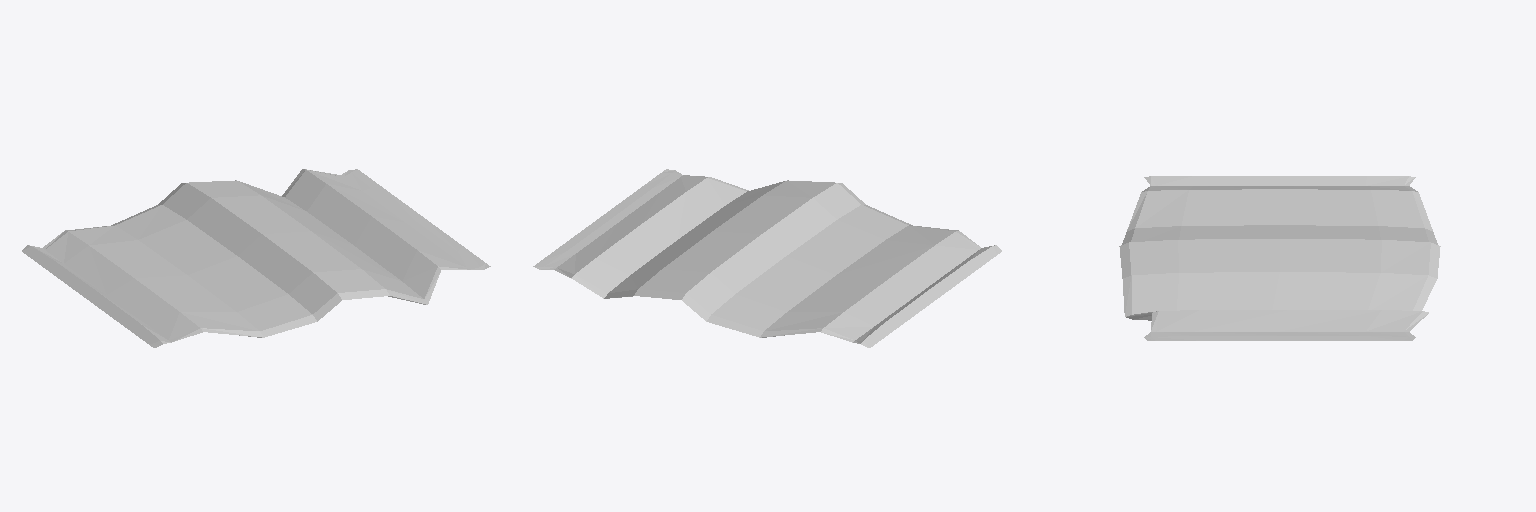
Rendered from Chips2.obj.
3 renders of one model, left to right at view 1: azimuth 30°, elevation 25°; view 2: azimuth 150°, elevation 25°; view 3: azimuth 270°, elevation 25°, orthographic.
Visible parts, largest first — view 1: Chips.001; view 2: Chips.001; view 3: Chips.001.
Boxes of the visible parts, x1=… form: Chips.001: x1=22, y1=169, x2=490, y2=347; Chips.001: x1=533, y1=169, x2=1001, y2=347; Chips.001: x1=1119, y1=176, x2=1440, y2=340.
Size of the model in its own units: 3.03 by 0.3492 by 2.5.